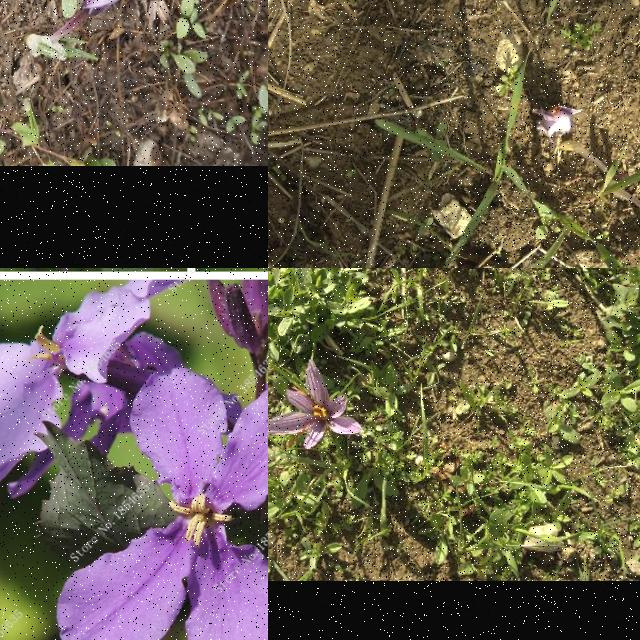flower: (268, 360, 361, 449), (532, 108, 582, 144)
